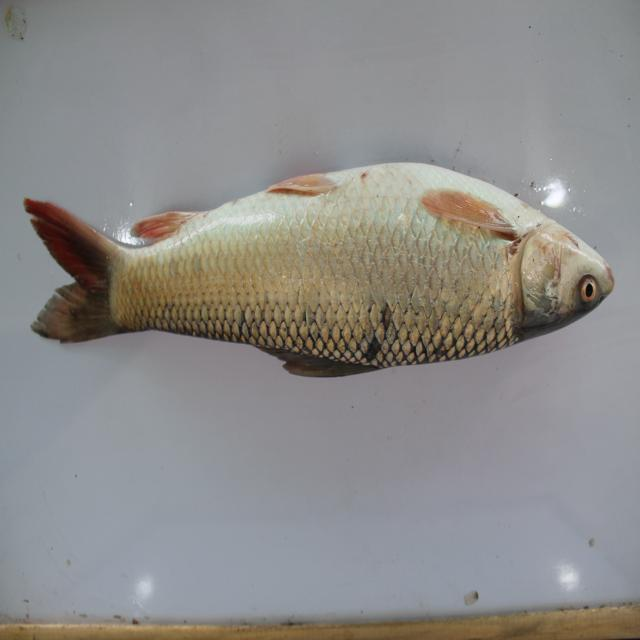Mori: (14, 153, 617, 384)
